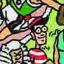waldo: (25, 15, 48, 45)
